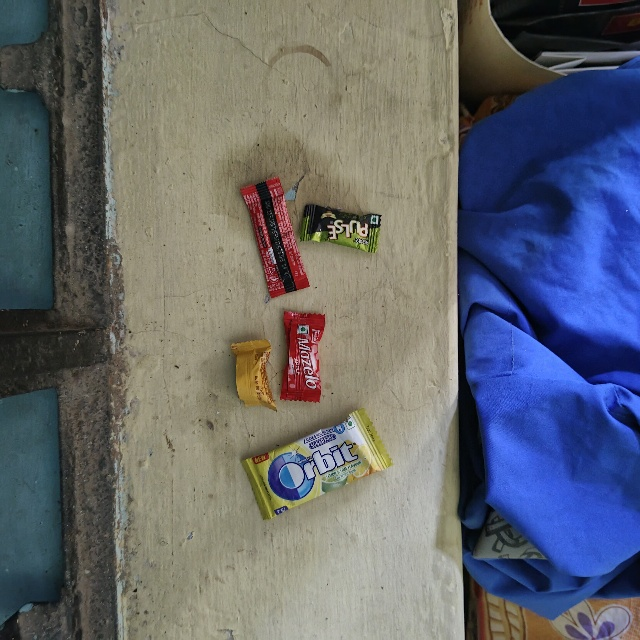Alpenlibe Creamfills: (226, 333, 273, 409)
Mazelo: (285, 306, 329, 404)
Nescafe Coffee: (234, 181, 281, 304)
Orbit: (237, 464, 380, 534)
Pulse: (308, 197, 385, 246)
